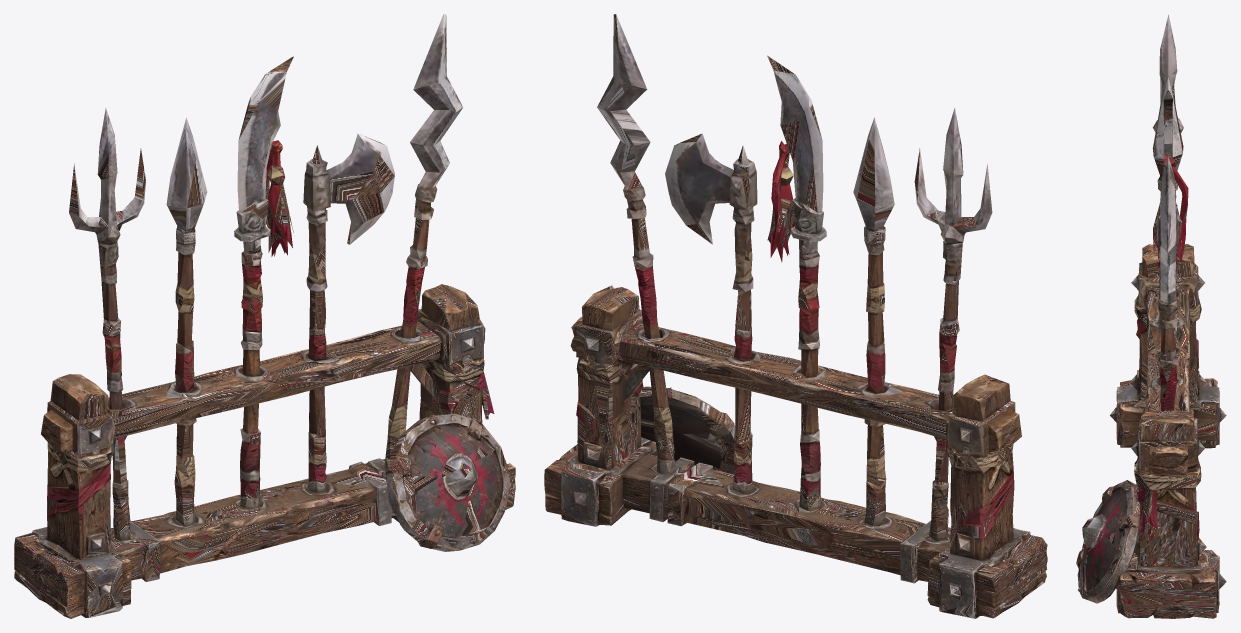
File: prop_weapon_rack.2cd579f5.glb
3 views of the same model, side by side, from view 1: azimuth 30°, elevation 25°; view 2: azimuth 150°, elevation 25°; view 3: azimuth 270°, elevation 25° (orthographic). The views are drawn at different scales.
Parts seen in each view (by area): view 1: tripo_node_95be1aa5-7165-404b-9807-5a142278d48b; view 2: tripo_node_95be1aa5-7165-404b-9807-5a142278d48b; view 3: tripo_node_95be1aa5-7165-404b-9807-5a142278d48b.
Boxes of the visible parts, x1,y1,x2,y2 form: tripo_node_95be1aa5-7165-404b-9807-5a142278d48b: (14, 14, 515, 618); tripo_node_95be1aa5-7165-404b-9807-5a142278d48b: (544, 14, 1047, 618); tripo_node_95be1aa5-7165-404b-9807-5a142278d48b: (1076, 14, 1226, 618).
Bounding box in the file's own units: 2.36 × 2.49 × 0.7514.
1 material, 1 textured.
